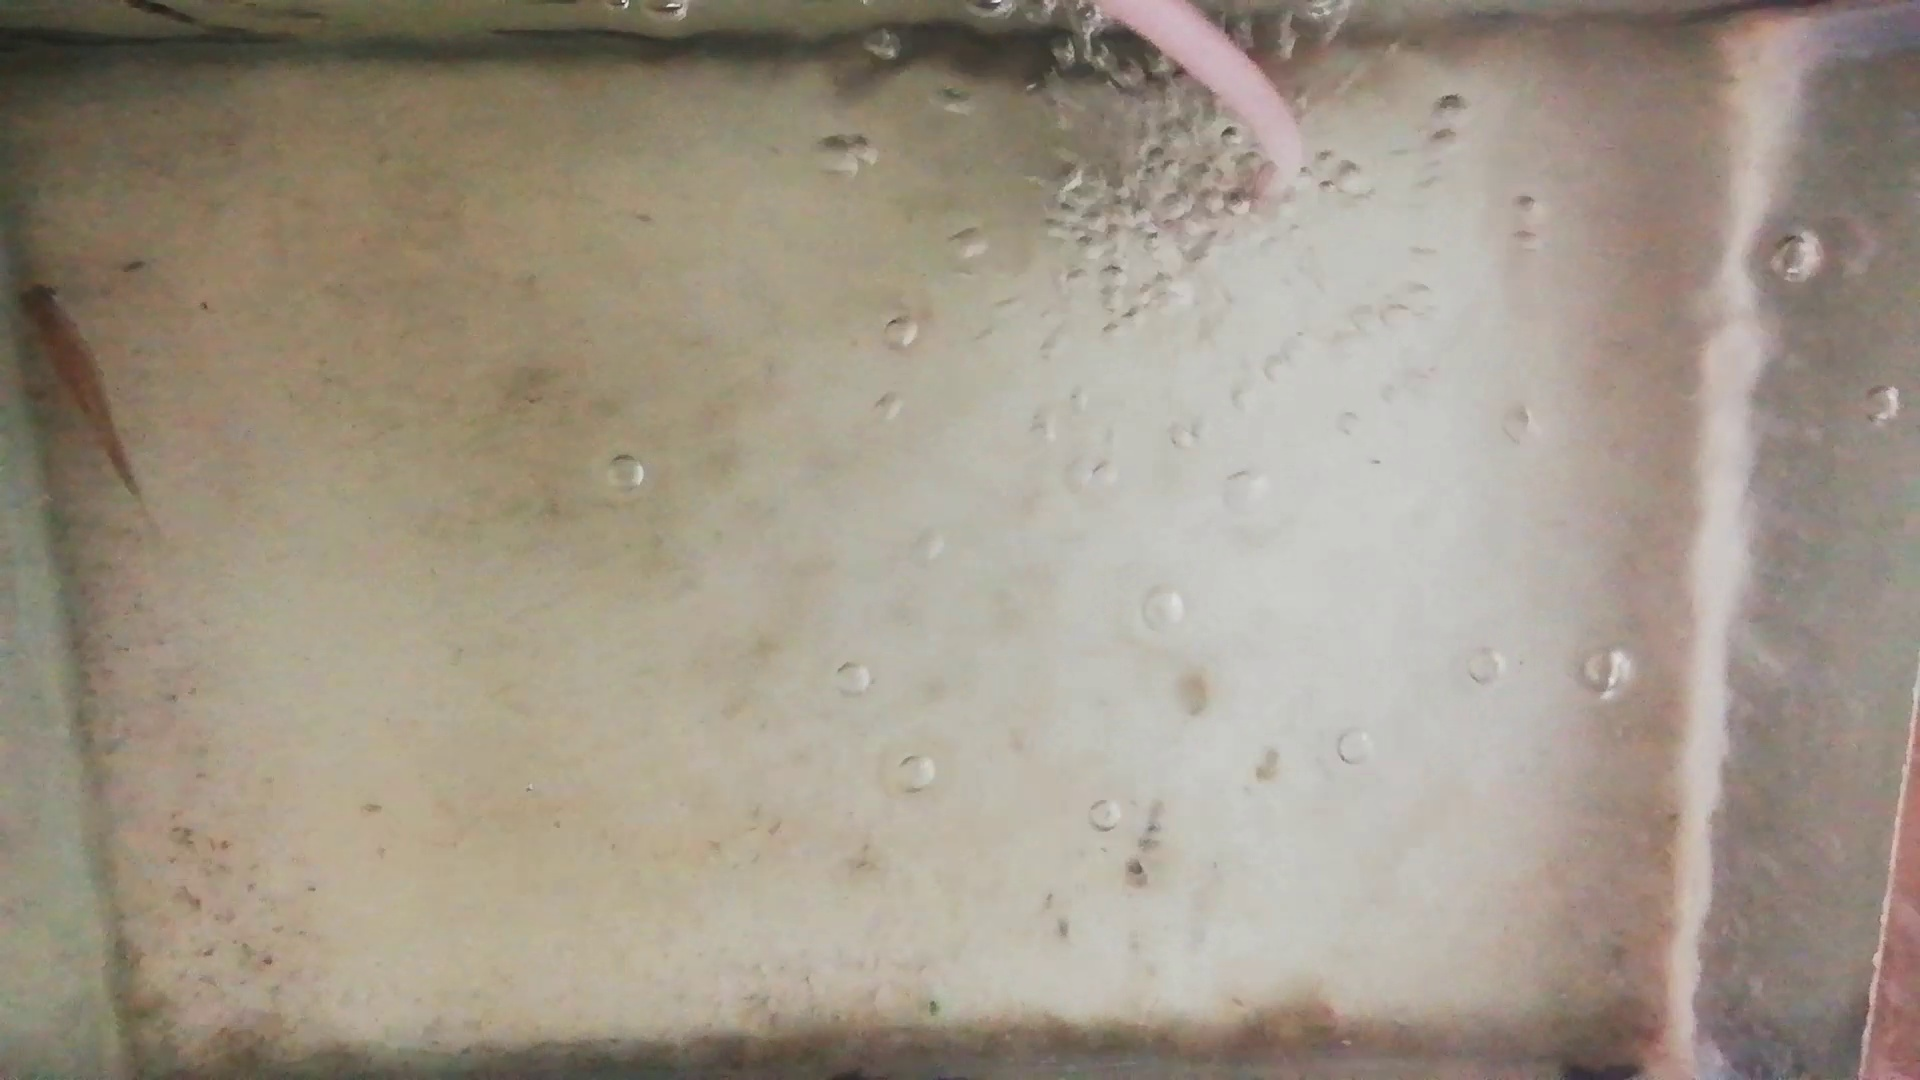fish: (17, 276, 142, 498)
